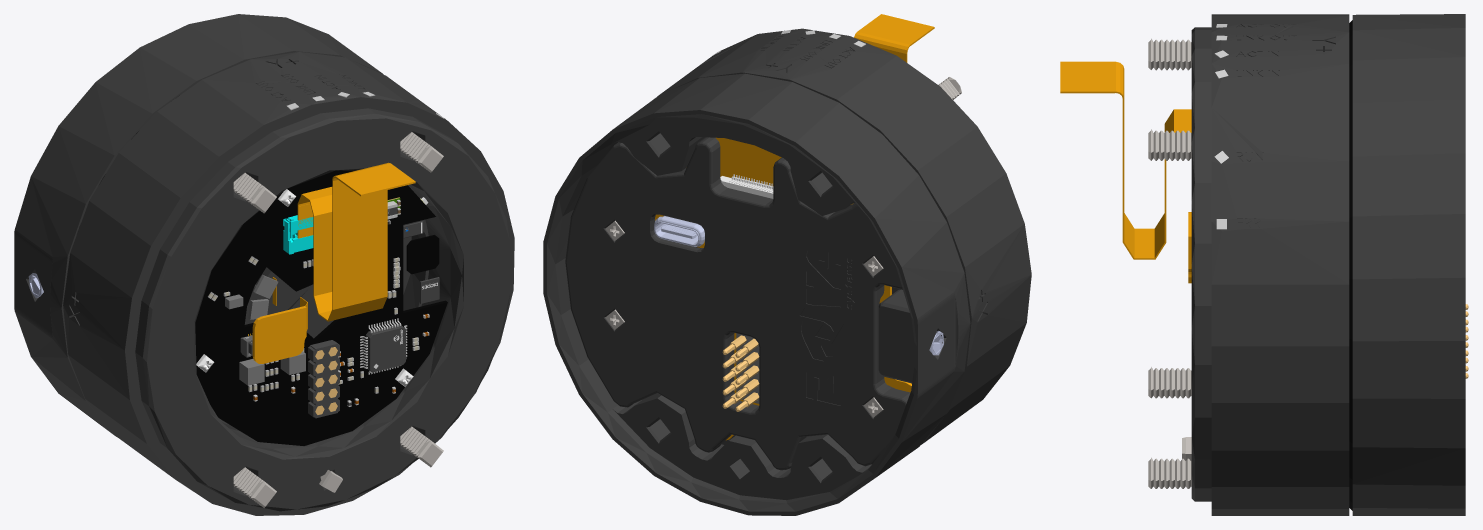
Rendered from Kinova_Gen3_Sensor.dae.
3 renders of one model, left to right at view 1: azimuth 30°, elevation 25°; view 2: azimuth 150°, elevation 25°; view 3: azimuth 270°, elevation 25°, orthographic. The views are drawn at different scales.
Parts seen in each view (by area): view 1: node1, node0, node50, node57, node94, node581, node432, node798, node58, node29, node28, node27 (+3 smaller); view 2: node2, node0, node1, node88, node798, node90, node89, node57; view 3: node1, node0, node57, node4, node798, node29, node28, node26, node27.
Boxes of the visible parts, left/top/right/bottom form: node1: left=63, top=52, right=514, bottom=515; node0: left=14, top=14, right=411, bottom=436; node50: left=195, top=170, right=447, bottom=445; node57: left=297, top=162, right=390, bottom=321; node94: left=252, top=306, right=306, bottom=363; node581: left=308, top=340, right=339, bottom=418; node432: left=365, top=324, right=405, bottom=372; node798: left=336, top=163, right=415, bottom=196; node58: left=406, top=235, right=439, bottom=274; node29: left=233, top=172, right=276, bottom=213; node28: left=400, top=132, right=443, bottom=172; node27: left=400, top=426, right=443, bottom=467; node2: left=565, top=137, right=910, bottom=470; node0: left=543, top=73, right=970, bottom=515; node1: left=657, top=28, right=1031, bottom=444; node88: left=655, top=137, right=911, bottom=440; node798: left=858, top=14, right=934, bottom=45; node90: left=654, top=216, right=704, bottom=246; node89: left=720, top=174, right=773, bottom=198; node57: left=854, top=31, right=910, bottom=62; node1: left=1191, top=14, right=1349, bottom=515; node0: left=1352, top=14, right=1465, bottom=515; node57: left=1115, top=61, right=1191, bottom=259; node4: left=1349, top=20, right=1352, bottom=510; node798: left=1060, top=61, right=1115, bottom=93; node29: left=1148, top=38, right=1191, bottom=70; node28: left=1148, top=129, right=1191, bottom=160; node26: left=1148, top=367, right=1191, bottom=398; node27: left=1148, top=457, right=1191, bottom=488.
Bounding box in the file's own units: 0.0748 × 0.0609 × 0.0749.
